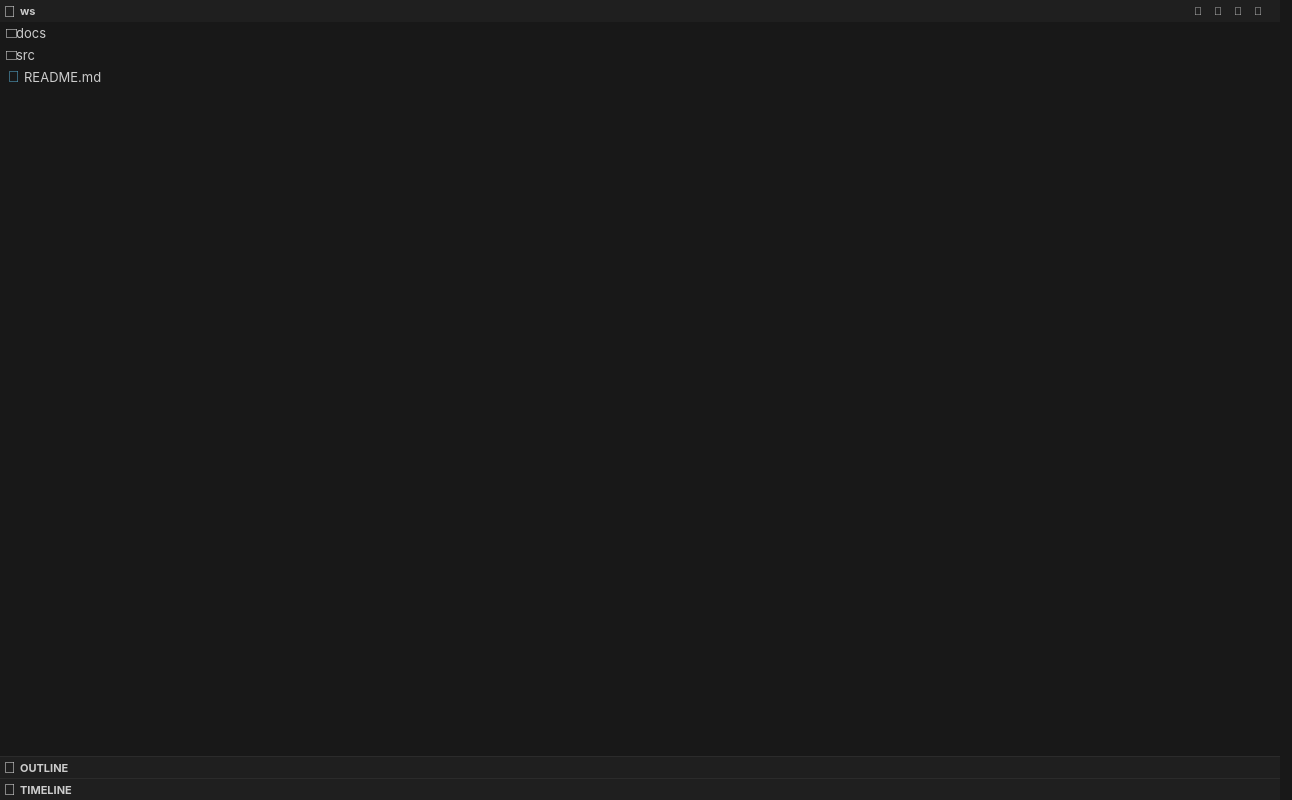
ExplorerView — input inline criar/renomear (A1.1/A1.2, 04_02 §4) › Novo Arquivo: input inline → Enter cria no disco via serviço
The image size is (1292, 800).
Expected: the text "README.md" is shown, [24, 69, 101, 85]
Note: sem seleção → cria na raiz (resolveCreateParent → root)
Click the button with test id "explorer-new-file" at (1200, 11), box [1192, 3, 1208, 19]
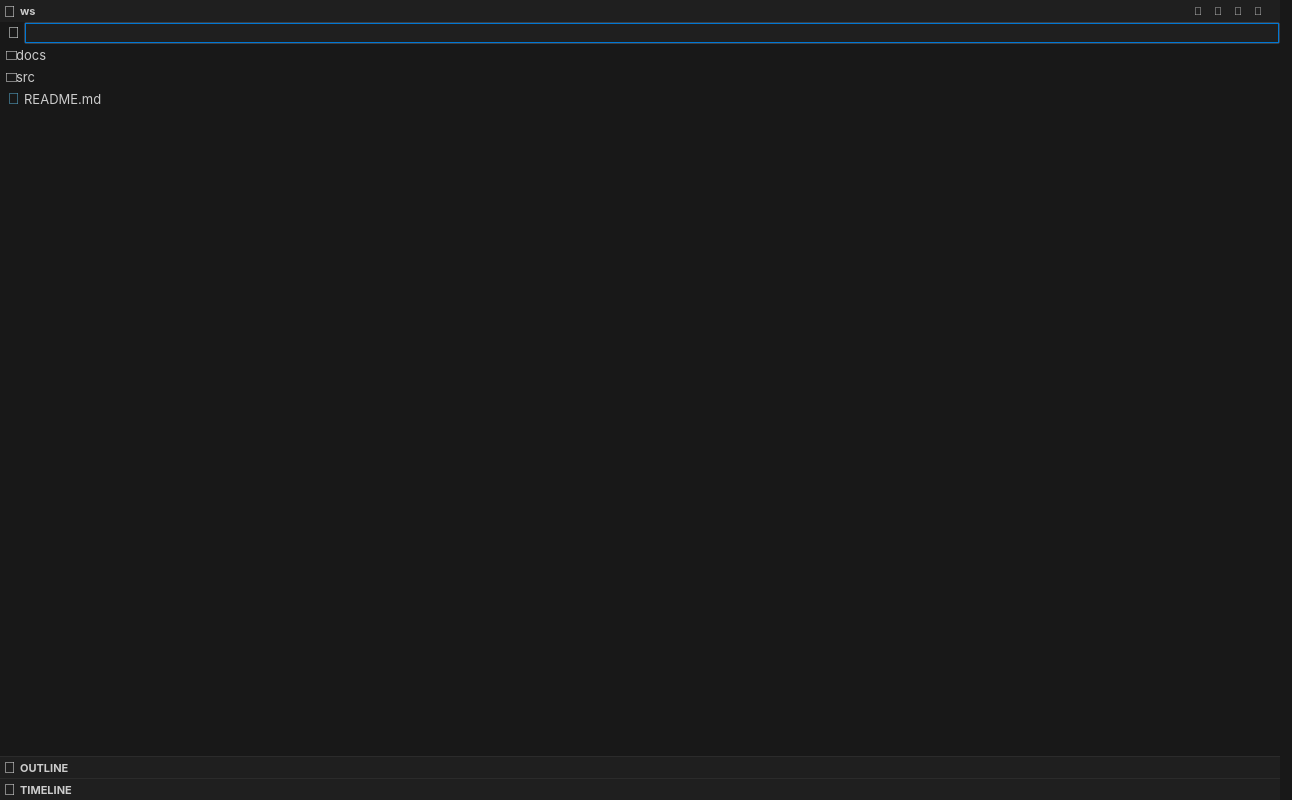
Type "novo-arquivo.txt" into the field with test id "explorer-inline-input" at (652, 33), box [25, 23, 1279, 43]
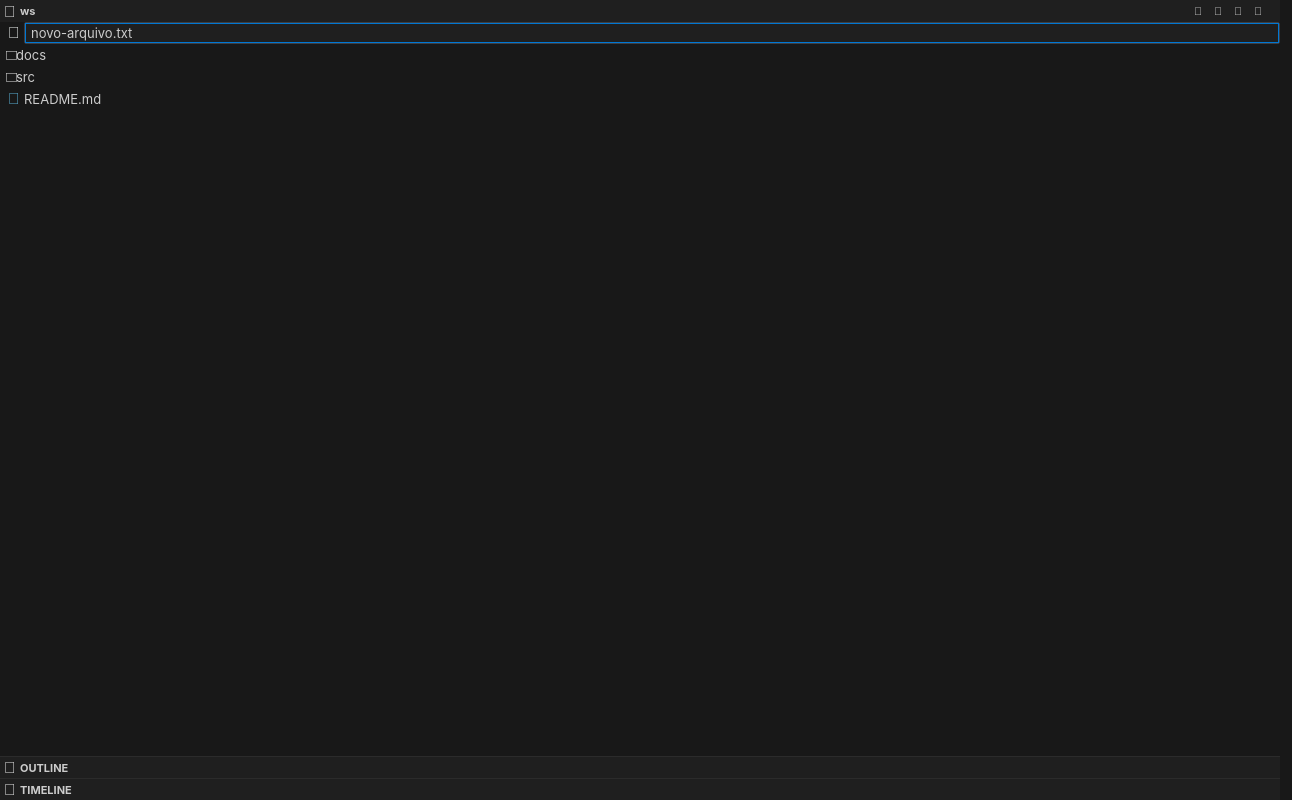
Press Enter in the field with test id "explorer-inline-input", box [25, 23, 1279, 43]
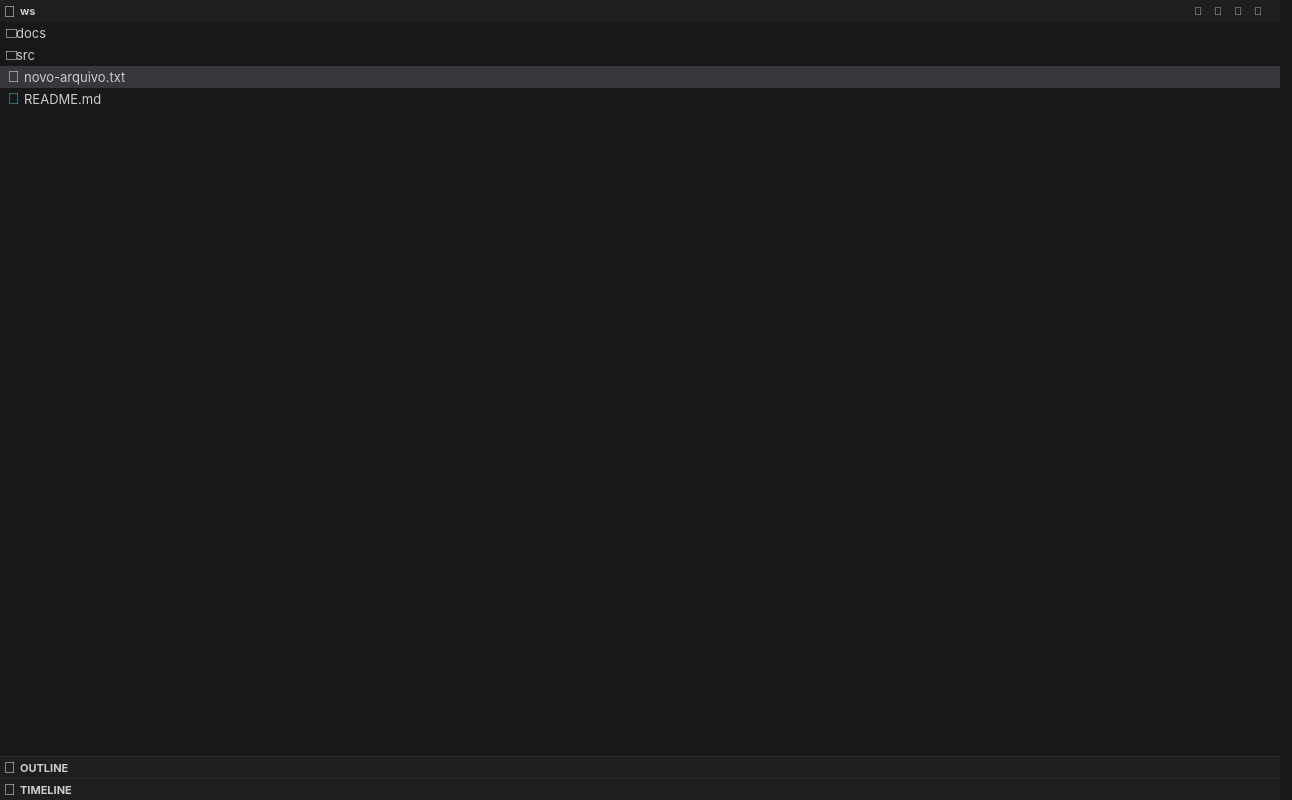
Now the text "novo-arquivo.txt" is shown, box [24, 69, 125, 85]
